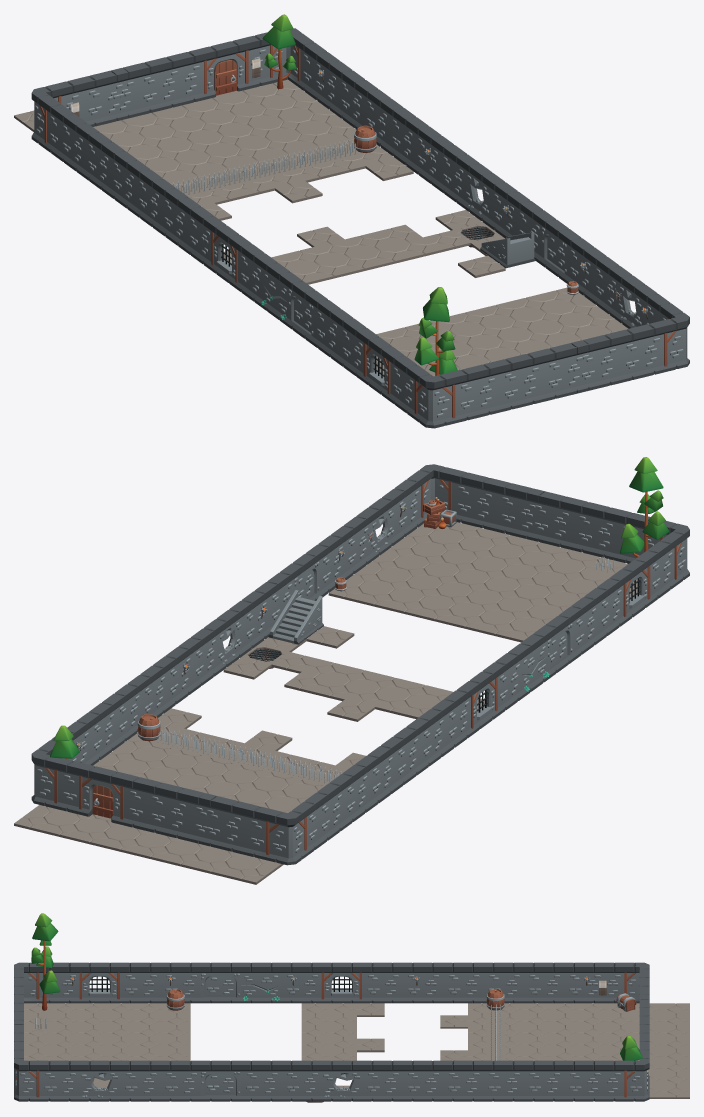
Rendered from Dash Level Polished.fbx.
3 views of the same model, one above another, from view 1: azimuth 30°, elevation 25°; view 2: azimuth 150°, elevation 25°; view 3: azimuth 270°, elevation 25° (orthographic). The views are drawn at different scales.
Visible parts, largest first — view 1: wall.093, wall.067, wall.066, wall.089, floor_tile_large.065, wall.090, floor_tile_large.053, Tree_4_C_Color1.075, wall_corner_scaffold.078, wall.092, floor_tile_large.064, floor_tile_large.066 (+58 smaller); view 2: wall.089, wall.093, Tree_4_C_Color1.075, wall.090, wall.067, wall.092, floor_tile_large.048, floor_tile_large.064, floor_tile_large.065, wall_corner_scaffold.081, floor_tile_large.044, floor_tile_large.053 (+61 smaller); view 3: wall.069, wall.071, wall.075, wall.081, wall.084, wall.085, wall.072, wall.074, wall.077, wall.079, wall.083, wall.088 (+55 smaller).
Boxes of the visible parts, box(x1,y1,x2,y2) form: wall.093: box(133, 54, 183, 115); wall.067: box(615, 321, 665, 382); wall.066: box(450, 361, 500, 422); wall.089: box(494, 351, 544, 412); floor_tile_large.065: box(345, 224, 440, 267); wall.090: box(571, 332, 621, 393); floor_tile_large.053: box(284, 239, 379, 281); Tree_4_C_Color1.075: box(414, 287, 457, 375); wall_corner_scaffold.078: box(413, 369, 456, 428); wall.092: box(78, 68, 128, 126); floor_tile_large.064: box(450, 301, 544, 341); floor_tile_large.066: box(205, 122, 300, 162); wall.089: box(571, 499, 620, 560); wall.093: box(144, 779, 193, 840); Tree_4_C_Color1.075: box(620, 457, 669, 557); wall.090: box(494, 480, 544, 541); wall.067: box(450, 469, 499, 530); wall.092: box(199, 793, 248, 854); floor_tile_large.048: box(449, 597, 544, 639); floor_tile_large.064: box(389, 582, 484, 624); floor_tile_large.065: box(284, 659, 379, 701); wall_corner_scaffold.081: box(265, 806, 308, 865); floor_tile_large.044: box(328, 567, 423, 609); floor_tile_large.053: box(345, 674, 439, 716); wall.069: box(39, 1060, 79, 1101); wall.071: box(160, 1060, 200, 1101); wall.075: box(281, 1060, 321, 1101); wall.081: box(402, 1060, 442, 1101); wall.084: box(442, 962, 482, 1003); wall.085: box(483, 1060, 523, 1101); wall.072: box(120, 962, 160, 1003); wall.074: box(241, 1060, 281, 1101); wall.077: box(362, 1060, 402, 1101); wall.079: box(362, 962, 402, 1003); wall.083: box(442, 1060, 482, 1101); wall.088: box(523, 1060, 563, 1101).
Size of the model in its own units: 4826 by 2266 by 13400.
Materials: 22 (22 with a texture image).
